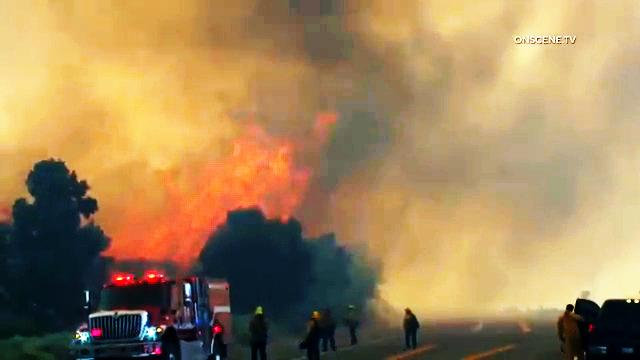smoke: (403, 132, 599, 282), (290, 17, 477, 136)
